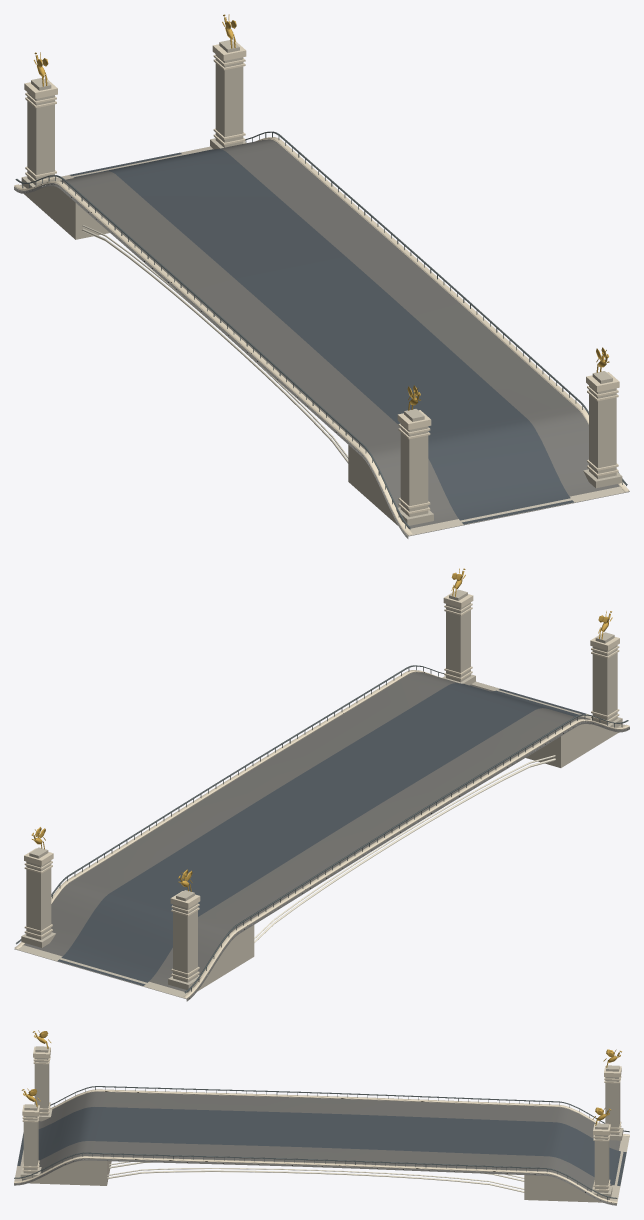
The model's file is paris-pont-alexandre-iii-far.glb.
3 renders of one model, top to bottom at view 1: azimuth 30°, elevation 25°; view 2: azimuth 150°, elevation 25°; view 3: azimuth 270°, elevation 25°, orthographic. The views are drawn at different scales.
Parts seen in each view (by area): view 1: paris-pont-alexandre-iii-asphalt, paris-pont-alexandre-iii-deck, paris-pont-alexandre-iii-stone, paris-pont-alexandre-iii-trim, paris-pont-alexandre-iii-rail, paris-pont-alexandre-iii-paint, paris-pont-alexandre-iii-gold; view 2: paris-pont-alexandre-iii-asphalt, paris-pont-alexandre-iii-deck, paris-pont-alexandre-iii-stone, paris-pont-alexandre-iii-trim, paris-pont-alexandre-iii-rail, paris-pont-alexandre-iii-paint, paris-pont-alexandre-iii-gold; view 3: paris-pont-alexandre-iii-asphalt, paris-pont-alexandre-iii-deck, paris-pont-alexandre-iii-stone, paris-pont-alexandre-iii-trim, paris-pont-alexandre-iii-rail, paris-pont-alexandre-iii-paint, paris-pont-alexandre-iii-gold.
Boxes of the visible parts, x1=… form: paris-pont-alexandre-iii-asphalt: x1=70, y1=149, x2=573, y2=524; paris-pont-alexandre-iii-deck: x1=14, y1=139, x2=629, y2=538; paris-pont-alexandre-iii-stone: x1=20, y1=40, x2=628, y2=535; paris-pont-alexandre-iii-trim: x1=14, y1=41, x2=629, y2=535; paris-pont-alexandre-iii-rail: x1=15, y1=131, x2=627, y2=529; paris-pont-alexandre-iii-paint: x1=82, y1=225, x2=348, y2=463; paris-pont-alexandre-iii-gold: x1=34, y1=14, x2=609, y2=410; paris-pont-alexandre-iii-asphalt: x1=57, y1=683, x2=586, y2=985; paris-pont-alexandre-iii-deck: x1=14, y1=672, x2=629, y2=1001; paris-pont-alexandre-iii-stone: x1=15, y1=589, x2=624, y2=998; paris-pont-alexandre-iii-trim: x1=14, y1=590, x2=629, y2=998; paris-pont-alexandre-iii-rail: x1=16, y1=665, x2=628, y2=993; paris-pont-alexandre-iii-paint: x1=254, y1=755, x2=555, y2=942; paris-pont-alexandre-iii-gold: x1=31, y1=568, x2=612, y2=891; paris-pont-alexandre-iii-asphalt: x1=17, y1=1107, x2=626, y2=1185; paris-pont-alexandre-iii-deck: x1=14, y1=1091, x2=620, y2=1205; paris-pont-alexandre-iii-stone: x1=14, y1=1046, x2=629, y2=1202; paris-pont-alexandre-iii-trim: x1=14, y1=1046, x2=629, y2=1203; paris-pont-alexandre-iii-rail: x1=14, y1=1086, x2=629, y2=1200; paris-pont-alexandre-iii-paint: x1=107, y1=1161, x2=524, y2=1192; paris-pont-alexandre-iii-gold: x1=21, y1=1030, x2=621, y2=1125.
Bounding box in the file's own units: 51.67 × 25.39 × 152.
